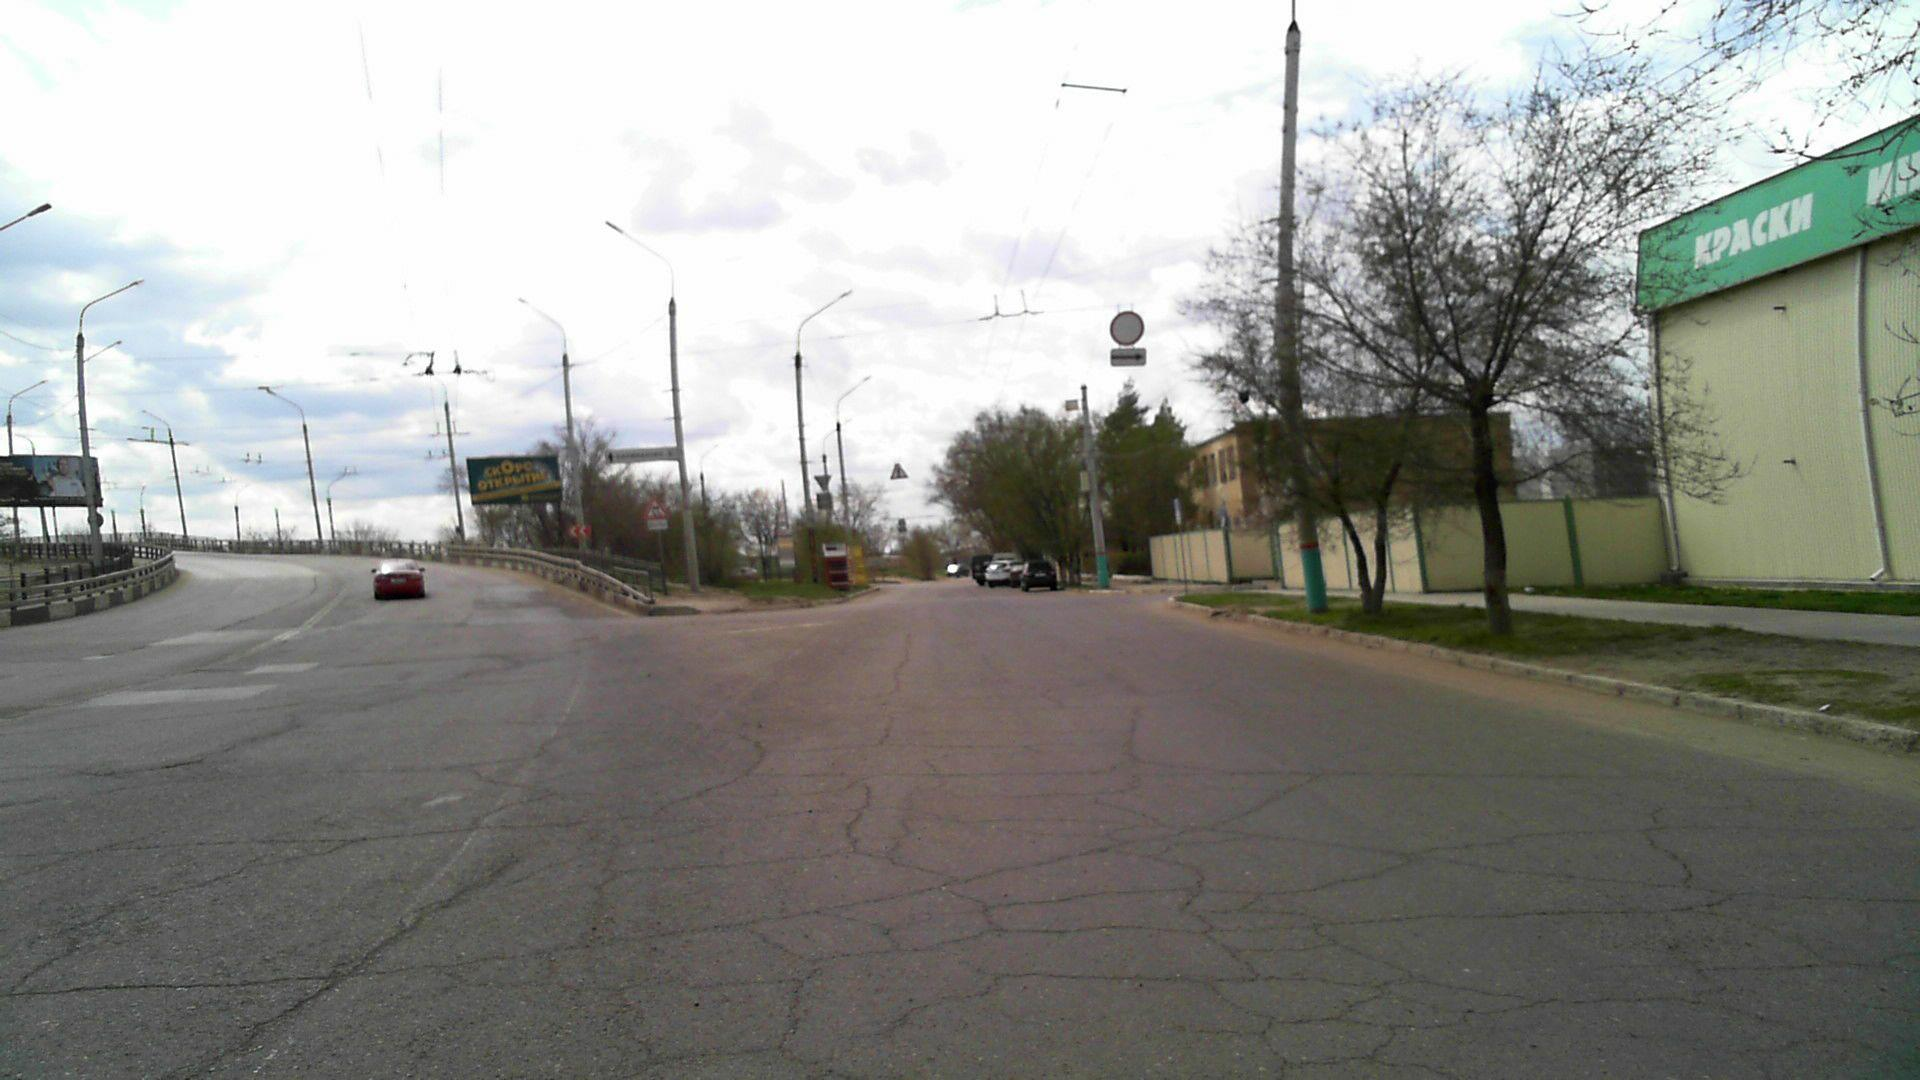1_15: (643, 495, 670, 519)
1_34_2: (568, 524, 593, 536)
2_3_1: (889, 461, 907, 480)
3_2: (1109, 309, 1145, 346)
8_3_1: (1110, 349, 1147, 367)
8_5_4: (646, 518, 670, 531)
